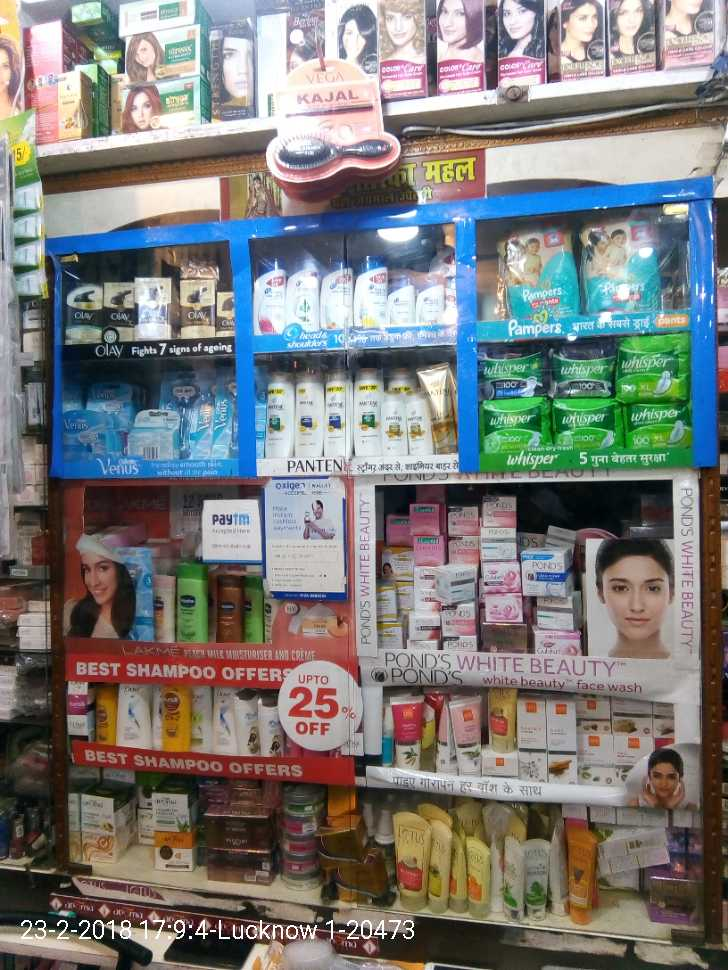venus: (215, 365, 265, 456), (173, 376, 215, 456), (60, 411, 120, 456), (131, 411, 169, 454), (88, 384, 137, 408)
